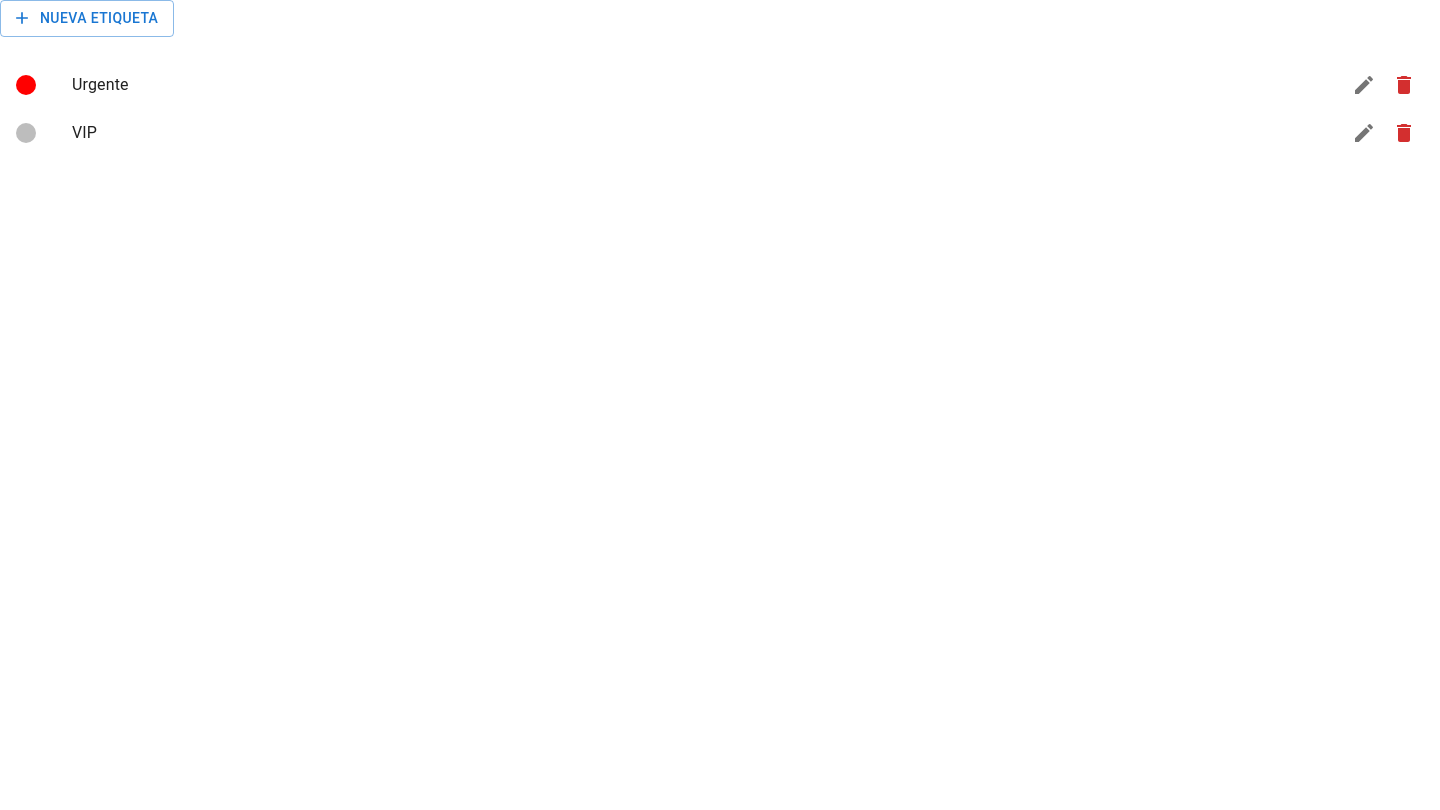
it: TagsManager › given edit button on tag, when clicked, then opens edit dialog with data
Click the button with test id "EditIcon".
click(1364, 84)  # box [1344,64,1384,104]
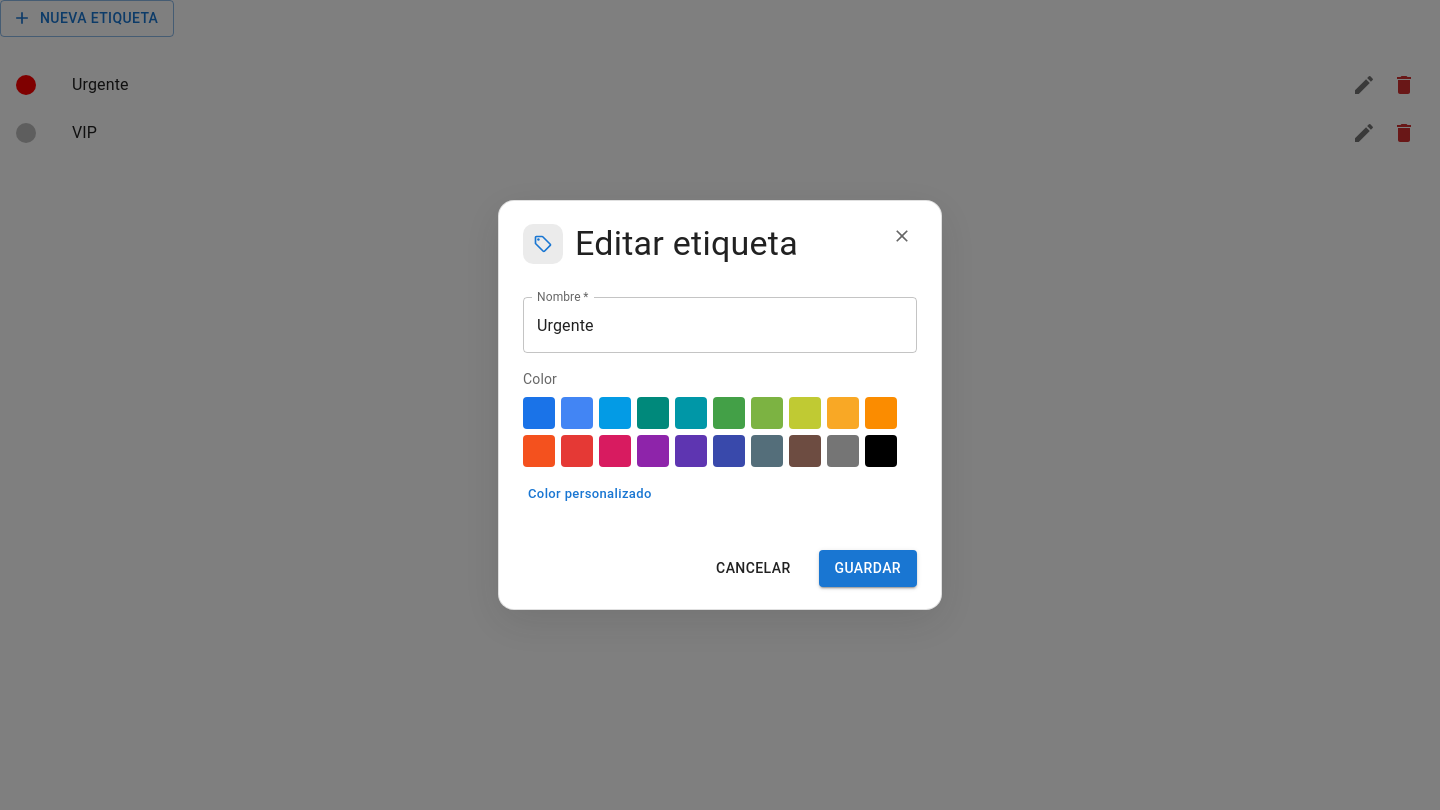
Expected: the heading "Editar etiqueta" is shown, [575,223,798,265]
